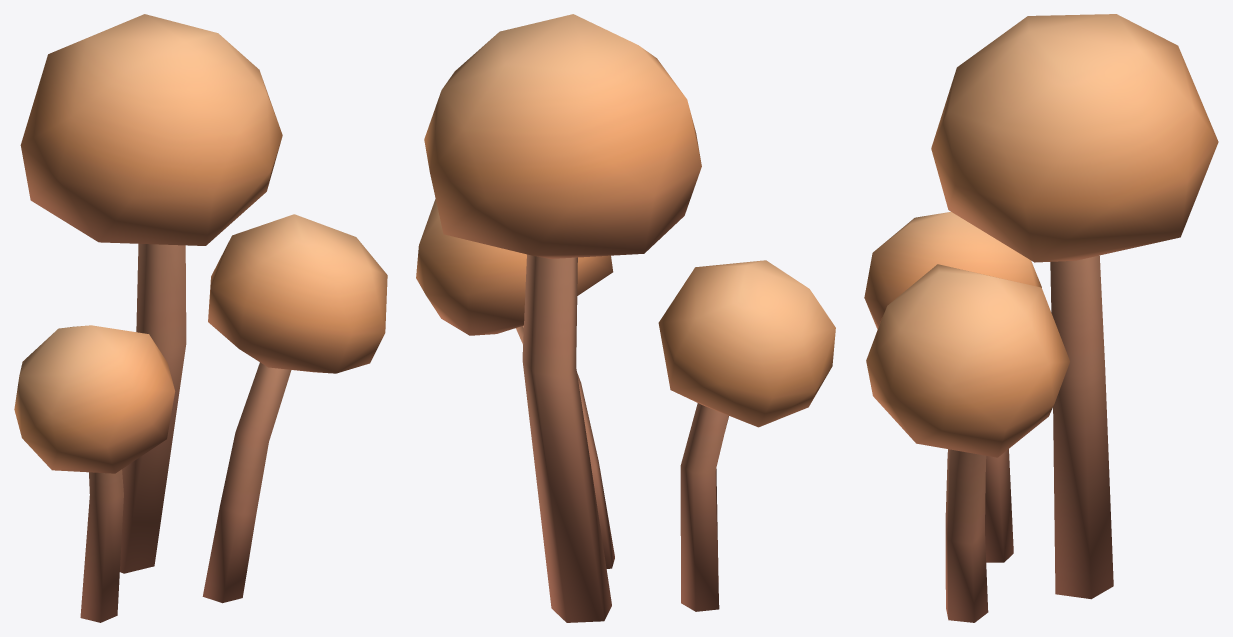
File: mushroom_sphere_3.fbx
The picture shows the model from 3 angles, left to right: view 1: azimuth 30°, elevation 25°; view 2: azimuth 150°, elevation 25°; view 3: azimuth 270°, elevation 25°; orthographic projection. The views are drawn at different scales.
Parts seen in each view (by area): view 1: mushroom_sphere_3.001; view 2: mushroom_sphere_3.001; view 3: mushroom_sphere_3.001.
Boxes of the visible parts, x1=… form: mushroom_sphere_3.001: x1=14, y1=14, x2=387, y2=622; mushroom_sphere_3.001: x1=416, y1=14, x2=835, y2=622; mushroom_sphere_3.001: x1=864, y1=14, x2=1218, y2=622.
Bounding box in the file's own units: 0.3974 × 0.5644 × 0.3128.
